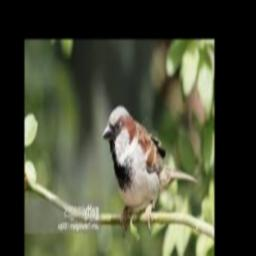Sparrow: (103, 106, 198, 236)
